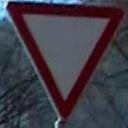preferencia: (4, 0, 126, 122)
